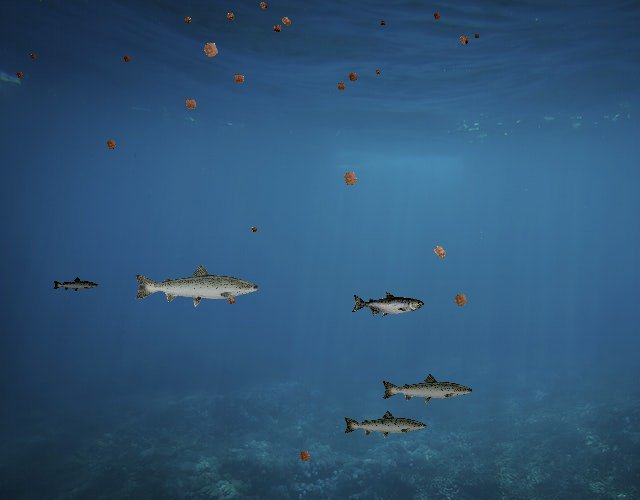Fish: (132, 262, 261, 308), (381, 372, 475, 406), (342, 409, 428, 440), (352, 292, 425, 318), (53, 276, 100, 293)
Pellet: (196, 34, 226, 64), (426, 239, 453, 266), (448, 287, 473, 313), (179, 93, 202, 116), (294, 445, 316, 467), (180, 13, 195, 28), (120, 52, 134, 66), (248, 224, 260, 236)
